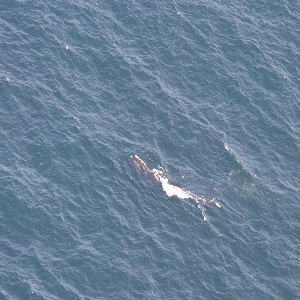cetacean: (129, 154, 203, 207)
